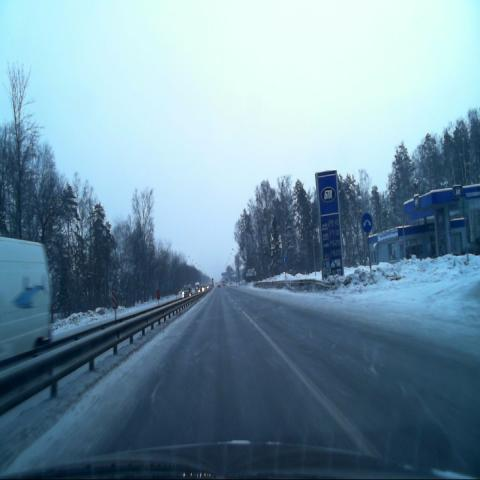4_2_3: (361, 211, 372, 233)
